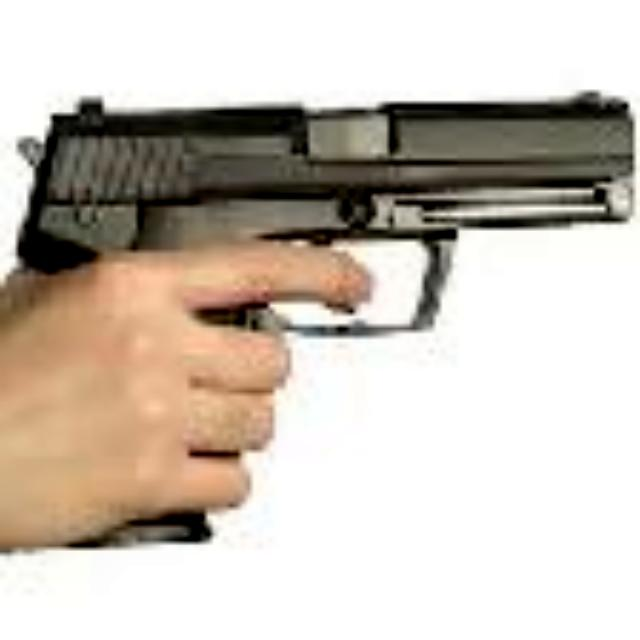pistol: (0, 72, 640, 548), (0, 91, 634, 554)
